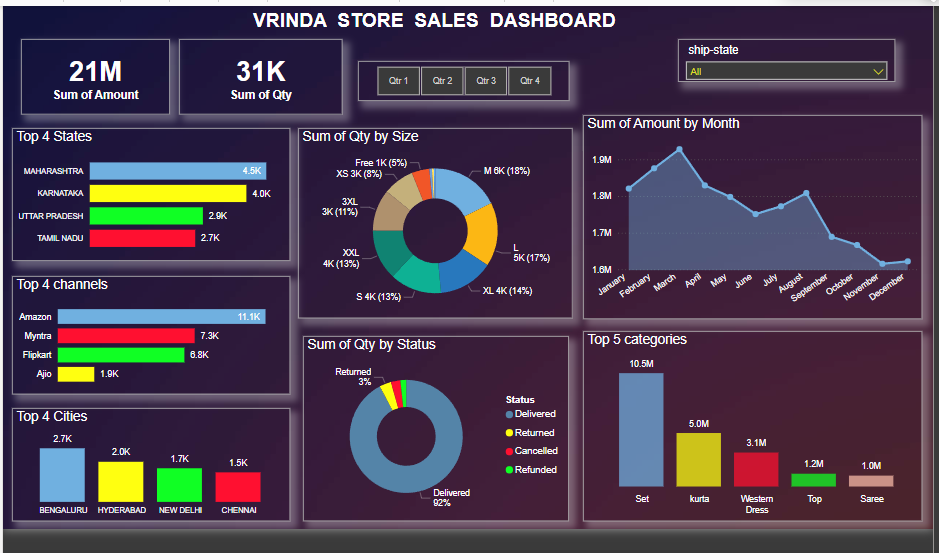

This screenshot's page, from the dashboard's own definition file:
{"tool":"powerbi","page":{"name":"Page 1","canvas":[1280,720],"ordinal":0},"visuals":[{"type":"lineChart","fields":{"Category":["Sheet1.Date.Variation.Date Hierarchy.Month"],"Y":["Sum(Sheet1.Amount)"]},"box":[797.9,149.5,467,280.5],"z":0},{"type":"textbox","box":[11.8,0,1162.4,45.4],"z":1000},{"type":"columnChart","title":"Top 5 categories","fields":{"Category":["Sheet1.Category"],"Y":["Sum(Sheet1.Amount)"]},"box":[797.9,446.8,467,262],"z":2000},{"type":"columnChart","title":"Top 4 Cities","fields":{"Y":["Sum(Sheet1.Qty)"],"Category":["Sheet1.ship-city"]},"box":[11.8,552.7,383,156.2],"z":3000},{"type":"donutChart","fields":{"Y":["Sum(Sheet1.Qty)"],"Category":["Sheet1.Size"]},"box":[406.5,168,378,262],"z":4000},{"type":"pieChart","fields":{"Category":["Sheet1.Status"],"Y":["Sum(Sheet1.Qty)"]},"box":[413.2,453.5,366.2,255.3],"z":5000},{"type":"barChart","title":"Top 4 channels","fields":{"Category":["Sheet1.Channel "],"Y":["Sum(Sheet1.Qty)"]},"box":[11.8,371.2,383,162.9],"z":6000},{"type":"barChart","title":"Top 4 States","fields":{"Category":["Sheet1.ship-state"],"Y":["Sum(Sheet1.Qty)"]},"box":[11.8,168,383,183.1],"z":7000},{"type":"card","fields":{"Values":["Sum(Sheet1.Amount)"]},"box":[25.2,45.4,204.9,104.1],"z":8000},{"type":"card","fields":{"Values":["Sum(Sheet1.Qty)"]},"box":[241.9,45.4,225.1,104.1],"z":9000},{"type":"slicer","fields":{"Values":["Sheet1.Date.Variation.Date Hierarchy.Quarter"]},"box":[488.8,75.6,290.6,55.4],"z":10000},{"type":"slicer","fields":{"Values":["Sheet1.ship-state"]},"box":[928.9,45.4,299,58.8],"z":11000}]}

Visuals, with their boxes in screenshot pixels (x1, y1, x2, y2):
lineChart - Sheet1.Date.Variation.Date Hierarchy.Month x Sum(Sheet1.Amount): <box>589,80,938,291</box>
textbox: <box>0,0,871,2</box>
"Top 5 categories" columnChart: <box>589,303,938,500</box>
"Top 4 Cities" columnChart: <box>0,383,286,500</box>
donutChart - Sum(Sheet1.Qty) x Sheet1.Size: <box>295,94,579,291</box>
pieChart - Sheet1.Status x Sum(Sheet1.Qty): <box>300,308,575,500</box>
"Top 4 channels" barChart: <box>0,247,286,369</box>
"Top 4 States" barChart: <box>0,94,286,232</box>
card - Sum(Sheet1.Amount): <box>9,2,163,80</box>
card - Sum(Sheet1.Qty): <box>172,2,340,80</box>
slicer - Sheet1.Date.Variation.Date Hierarchy.Quarter: <box>357,25,575,66</box>
slicer - Sheet1.ship-state: <box>687,2,911,46</box>
